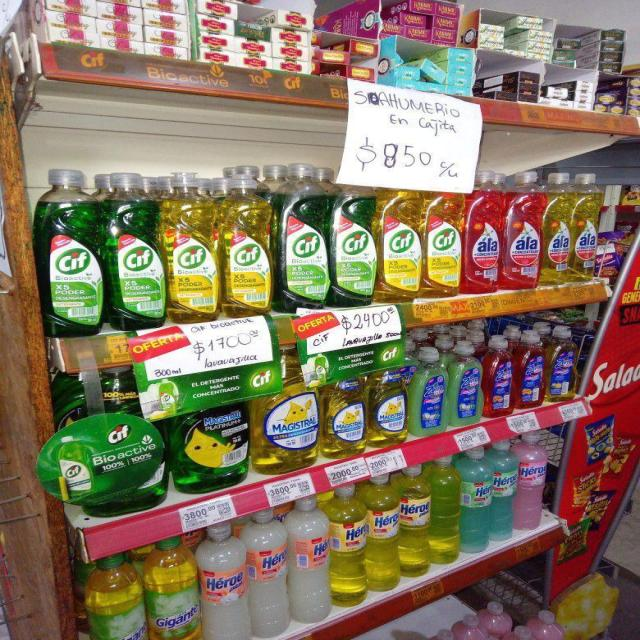ala_conc_amarillo: (542, 171, 571, 286), (571, 172, 599, 284)
ala_conc_rojo: (464, 169, 502, 295), (504, 169, 541, 292)
cif_conc_bot_amarilla: (220, 165, 274, 316), (166, 172, 219, 323), (379, 176, 422, 302), (423, 181, 462, 298)
cif_conc_botella_verde: (40, 168, 104, 336), (107, 172, 165, 329), (278, 163, 329, 310), (331, 170, 377, 306)
heroe: (200, 522, 248, 640), (248, 507, 288, 638), (290, 495, 330, 625), (329, 484, 366, 607), (368, 472, 398, 593), (400, 465, 430, 579), (461, 446, 490, 556), (517, 432, 546, 532), (490, 440, 516, 544)
magistral_con_amarillo: (254, 350, 319, 473), (322, 377, 366, 457), (368, 366, 407, 447)
zorro: (409, 346, 446, 437), (448, 342, 482, 428), (484, 335, 514, 418)
